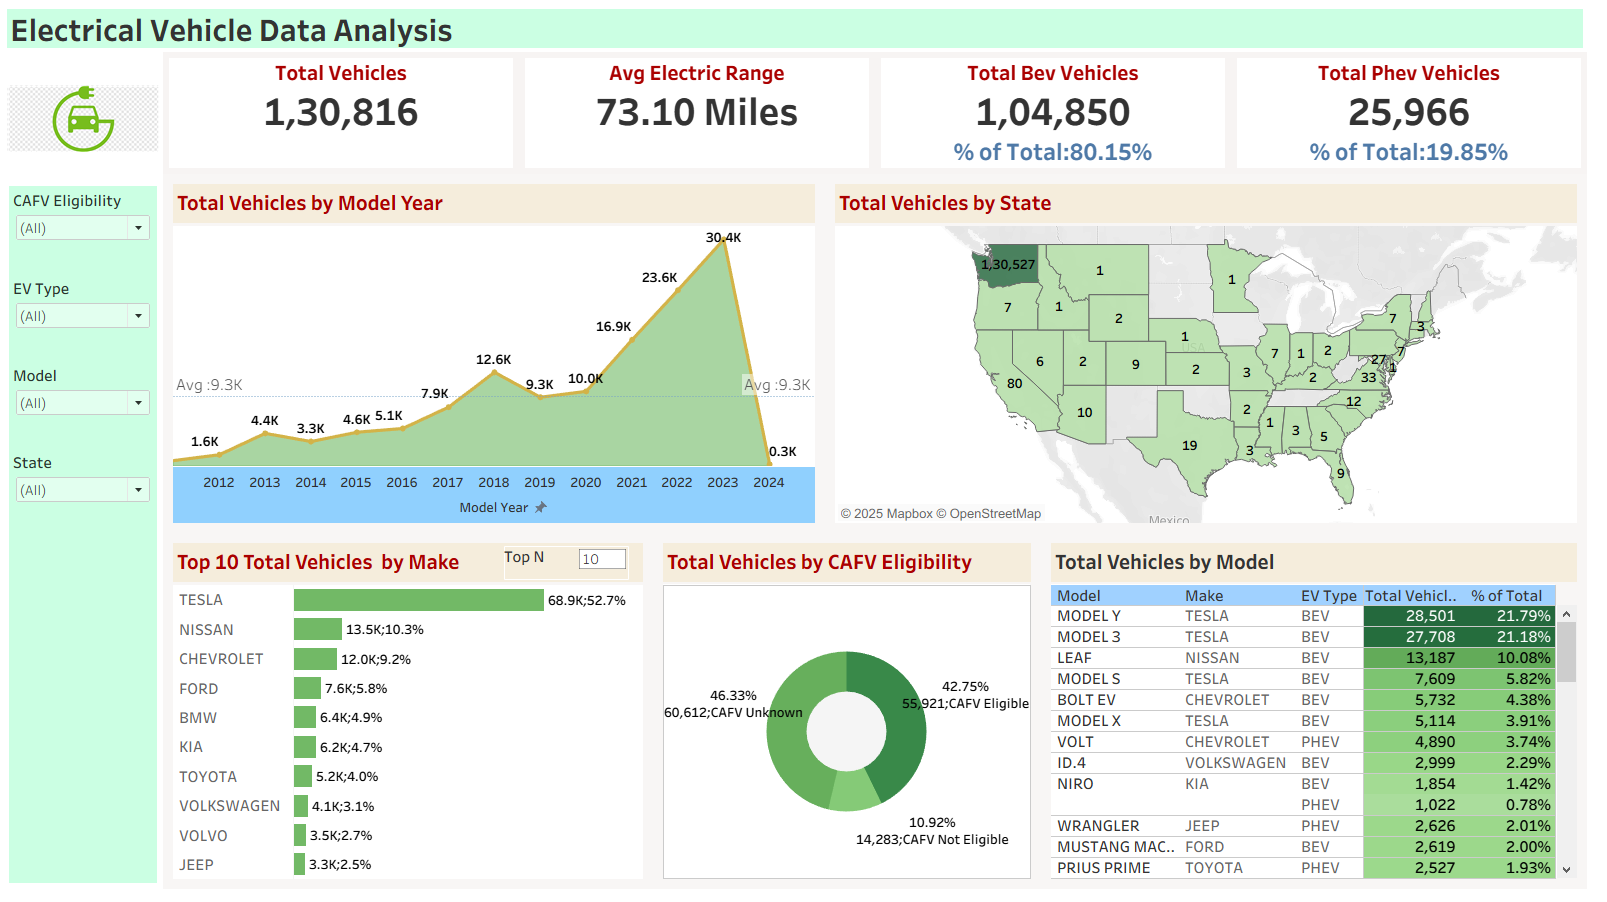

Layout of this report page (visuals, bound fields, positions):
{"tool":"tableau","page":{"name":"Dashboard 1","canvas":[1600,900],"ordinal":0},"visuals":[{"type":"title","box":[8,8,1584,47]},{"type":"image","param":"C:/Users/MR Bhagwanji mishra/Downloads/ev image.png","box":[8,55,160,134]},{"type":"worksheet","title":"Total Vehicles","mark":"Automatic","box":[168,55,356,122]},{"type":"worksheet","title":"Avg Electric Range","mark":"Automatic","box":[524,55,356,122]},{"type":"worksheet","title":"Total Bev Vehicles","mark":"Automatic","box":[880,55,356,122]},{"type":"worksheet","title":"Total Phev Vehicles","mark":"Automatic","box":[1236,55,356,122]},{"type":"worksheet","title":"Total Vehicles by Model Year","mark":"Area","rows":["Calculation_1126462891109617664","Calculation_1126462891109617664"],"cols":["Model Year"],"box":[168,177,662,359]},{"type":"worksheet","title":"Total Vehicles by State","mark":"Multipolygon","box":[830,177,762,359]},{"type":"filter","title":"Total Vehicles by Model Year","param":"[federated.0ykargh0yukinw17yi4rx09pees6].[none:Clean Alternative Fuel Vehicle (C","box":[14,189,148,88]},{"type":"filter","title":"Total Vehicles by Model Year","param":"[federated.0ykargh0yukinw17yi4rx09pees6].[none:Electric Vehicle Type:nk]","box":[14,277,148,87]},{"type":"filter","title":"Total Vehicles by Model Year","param":"[federated.0ykargh0yukinw17yi4rx09pees6].[none:Model:nk]","box":[14,364,148,87]},{"type":"filter","title":"Total Vehicles by Model Year","param":"[federated.0ykargh0yukinw17yi4rx09pees6].[none:State:nk]","box":[14,451,148,87]},{"type":"worksheet","title":"Top 10 Total Vehicles  by Make ","mark":"Automatic","rows":["Make"],"cols":["Calculation_1126462891109617664"],"box":[168,536,490,356]},{"type":"worksheet","title":"Total Vehicles by CAFV Eligibility","mark":"Pie","rows":["Calculation_853995114353766401","Calculation_853995114353766401"],"box":[658,536,381,356]},{"type":"worksheet","title":"Total Vehicles by Model","mark":"Square","rows":["Model","Make","Electric Vehicle Type"],"box":[1039,536,553,356]},{"type":"blank","box":[14,538,148,87]},{"type":"parameter","param":"[Parameters].[Parameter 1]","box":[509,549,125,34]},{"type":"blank","box":[14,625,148,87]},{"type":"blank","box":[14,712,148,87]},{"type":"blank","box":[14,799,148,87]}]}

Visuals, with their boxes in screenshot pixels (x1, y1, x2, y2), scaled from the page's 1600x900 canvas onto the 1607x902 screenshot:
title: left=8, top=8, right=1599, bottom=55
image: left=8, top=55, right=169, bottom=189
"Total Vehicles" worksheet: left=169, top=55, right=526, bottom=177
"Avg Electric Range" worksheet: left=526, top=55, right=884, bottom=177
"Total Bev Vehicles" worksheet: left=884, top=55, right=1241, bottom=177
"Total Phev Vehicles" worksheet: left=1241, top=55, right=1599, bottom=177
"Total Vehicles by Model Year" worksheet (Area marks): left=169, top=177, right=834, bottom=537
"Total Vehicles by State" worksheet (Multipolygon marks): left=834, top=177, right=1599, bottom=537
"Total Vehicles by Model Year" filter: left=14, top=189, right=163, bottom=278
"Total Vehicles by Model Year" filter: left=14, top=278, right=163, bottom=365
"Total Vehicles by Model Year" filter: left=14, top=365, right=163, bottom=452
"Total Vehicles by Model Year" filter: left=14, top=452, right=163, bottom=539
"Top 10 Total Vehicles  by Make " worksheet: left=169, top=537, right=661, bottom=894
"Total Vehicles by CAFV Eligibility" worksheet (Pie marks): left=661, top=537, right=1044, bottom=894
"Total Vehicles by Model" worksheet (Square marks): left=1044, top=537, right=1599, bottom=894
blank: left=14, top=539, right=163, bottom=626
parameter: left=511, top=550, right=637, bottom=584
blank: left=14, top=626, right=163, bottom=714
blank: left=14, top=714, right=163, bottom=801
blank: left=14, top=801, right=163, bottom=888
